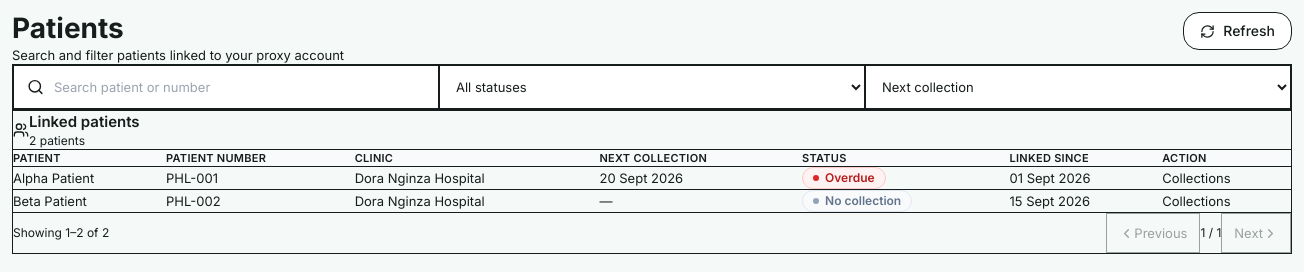
Test: ProxyPatientsPage › filters linked patients by patient number
Expected: the heading "Linked patients" is shown, [29,111,140,133]
Type "PHL-002" into the search field with placeholder "Search patient or number".
click(226, 87); type("PHL-002")  # box [13,65,439,109]
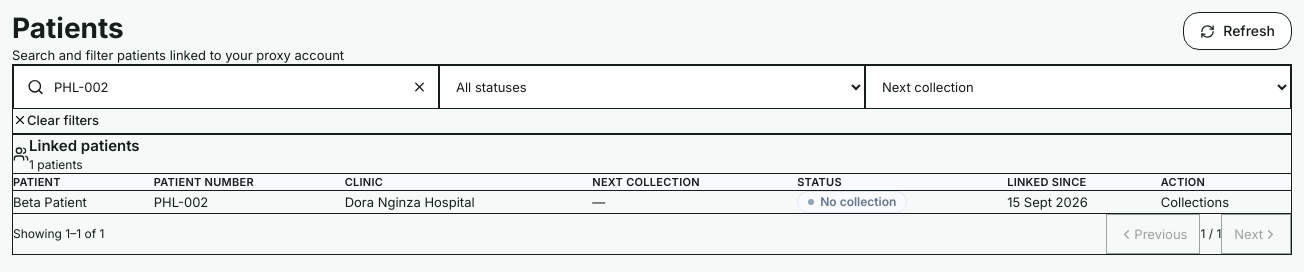
Result: the text "1 patients" is shown at [29,156,82,172]
Result: the text "Alpha Patient" is not shown
